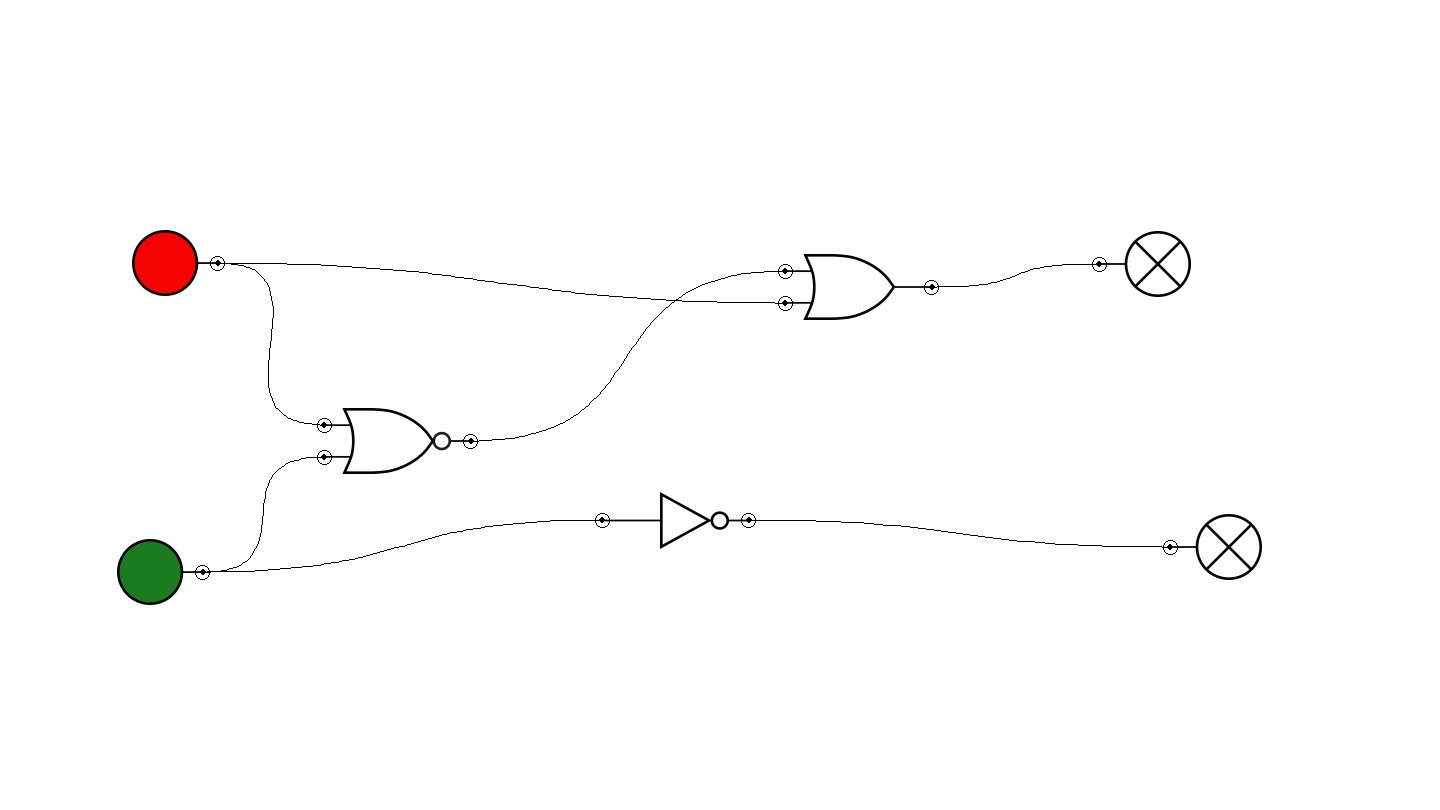bulb: (1092, 231, 1191, 297), (1163, 514, 1262, 580)
nor: (317, 408, 478, 474)
not: (595, 492, 756, 549)
or: (778, 254, 939, 320)
switch_False: (132, 230, 225, 296)
switch_True: (117, 539, 210, 605)
